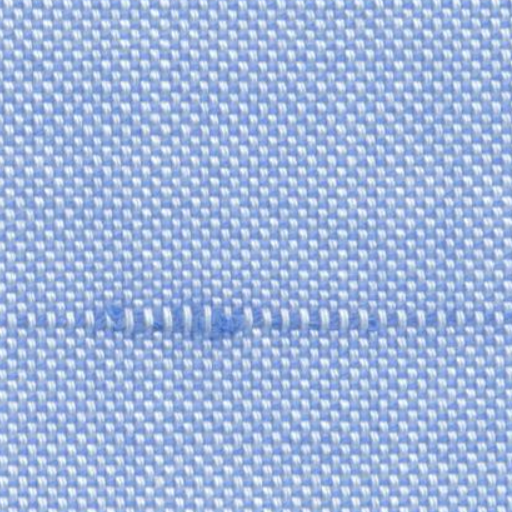DaiSha: (13, 290, 477, 355)
